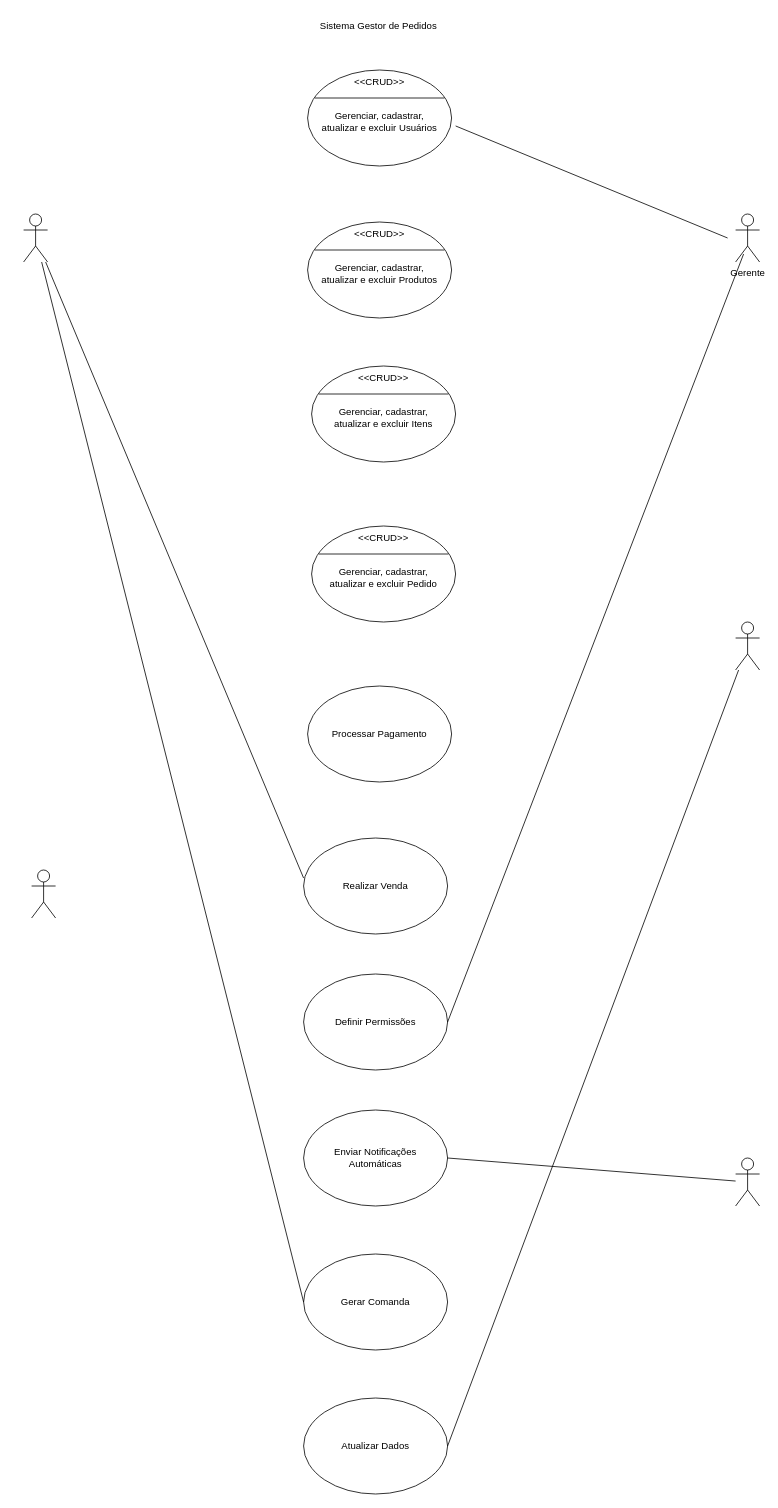
This 778x1508 diagram has some shape labels left out. Each missing label, with the box of its shape:
Atendente: (23, 213, 48, 262)
Cliente: (735, 621, 760, 670)
Sistema: (735, 1157, 760, 1206)
Usuário: (31, 869, 56, 918)
